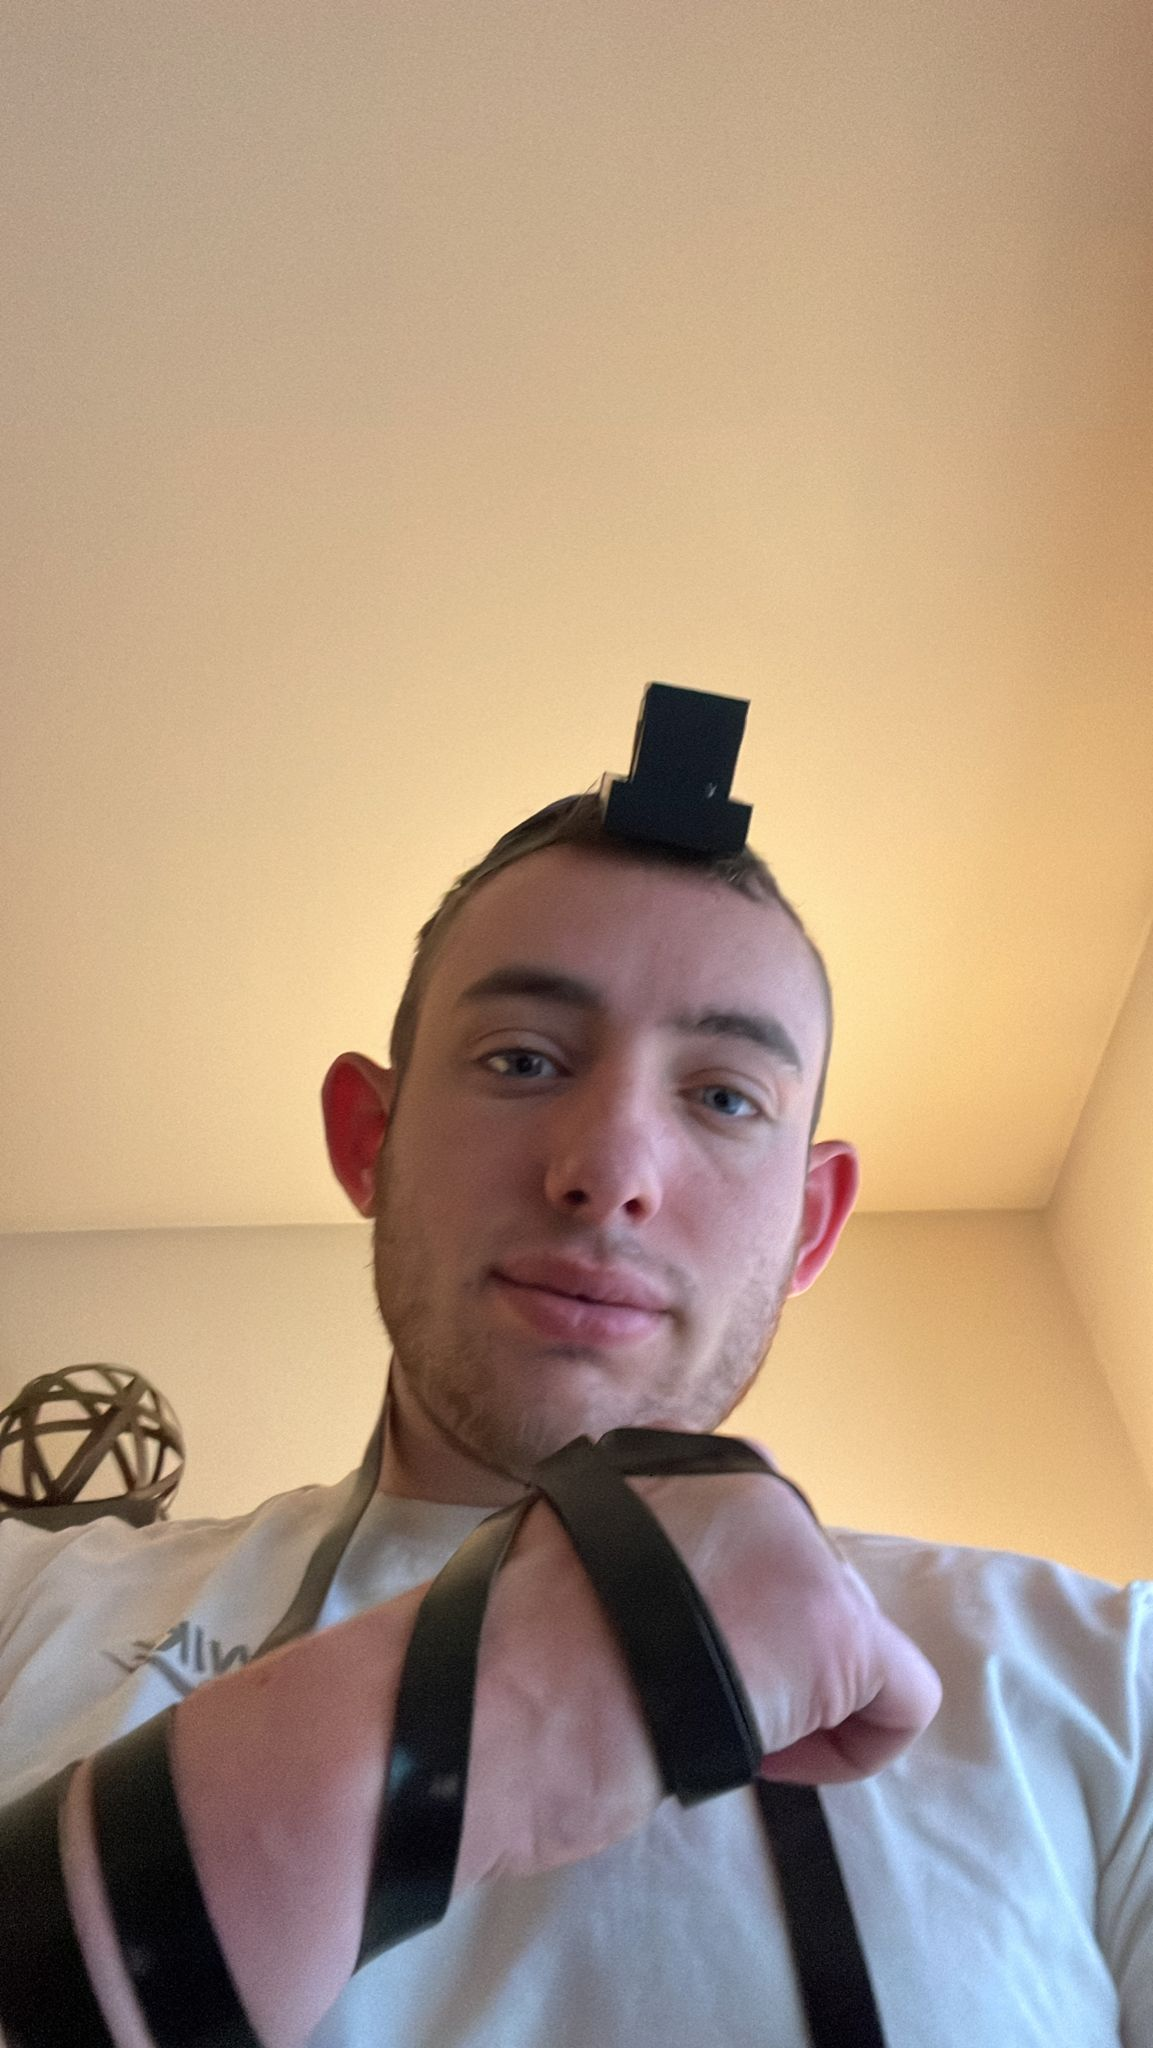tefillin: (602, 682, 752, 862)
